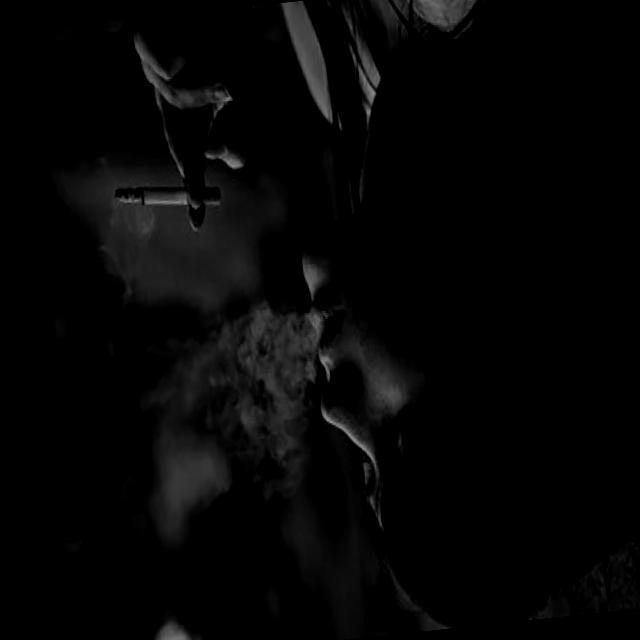cigarette: (108, 174, 224, 218)
